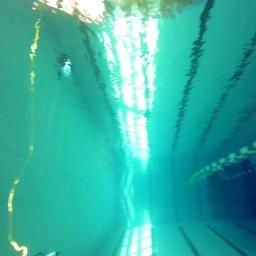Full: (56, 62, 72, 76)
